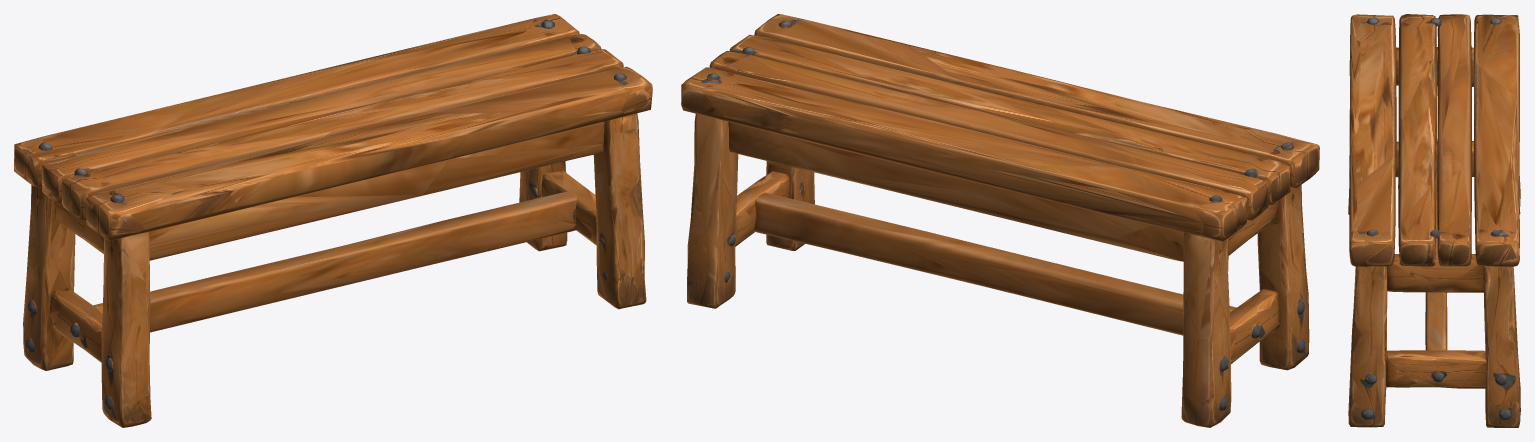
Rendered from bench.glb.
The picture shows the model from 3 angles, left to right: view 1: azimuth 30°, elevation 25°; view 2: azimuth 150°, elevation 25°; view 3: azimuth 270°, elevation 25°; orthographic projection. The views are drawn at different scales.
Parts seen in each view (by area): view 1: Mesh0; view 2: Mesh0; view 3: Mesh0.
Boxes of the visible parts, x1,y1,x2,y2 form: Mesh0: [14, 14, 652, 427]; Mesh0: [681, 14, 1319, 427]; Mesh0: [1348, 14, 1520, 427].
Size of the model in its own units: 1 by 0.3976 by 0.3205.
1 material, 1 textured.
